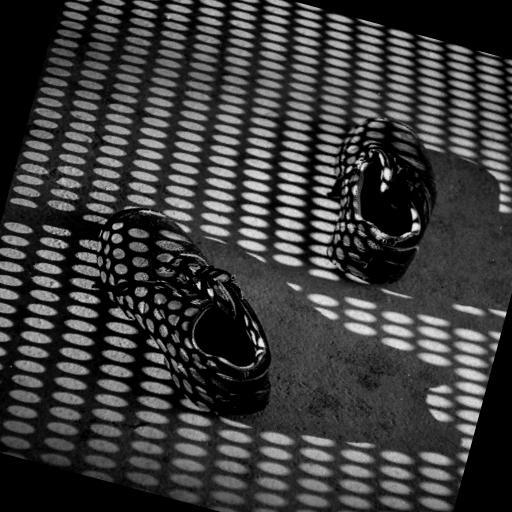shoe: (97, 208, 269, 415), (306, 98, 460, 300)
